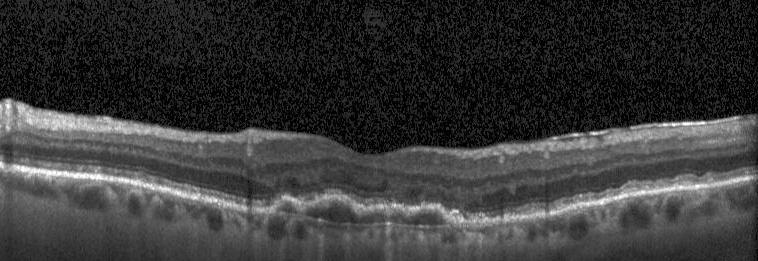retinal_drusen: (306, 199, 359, 223), (406, 209, 442, 225), (360, 213, 406, 224), (277, 201, 297, 214)
